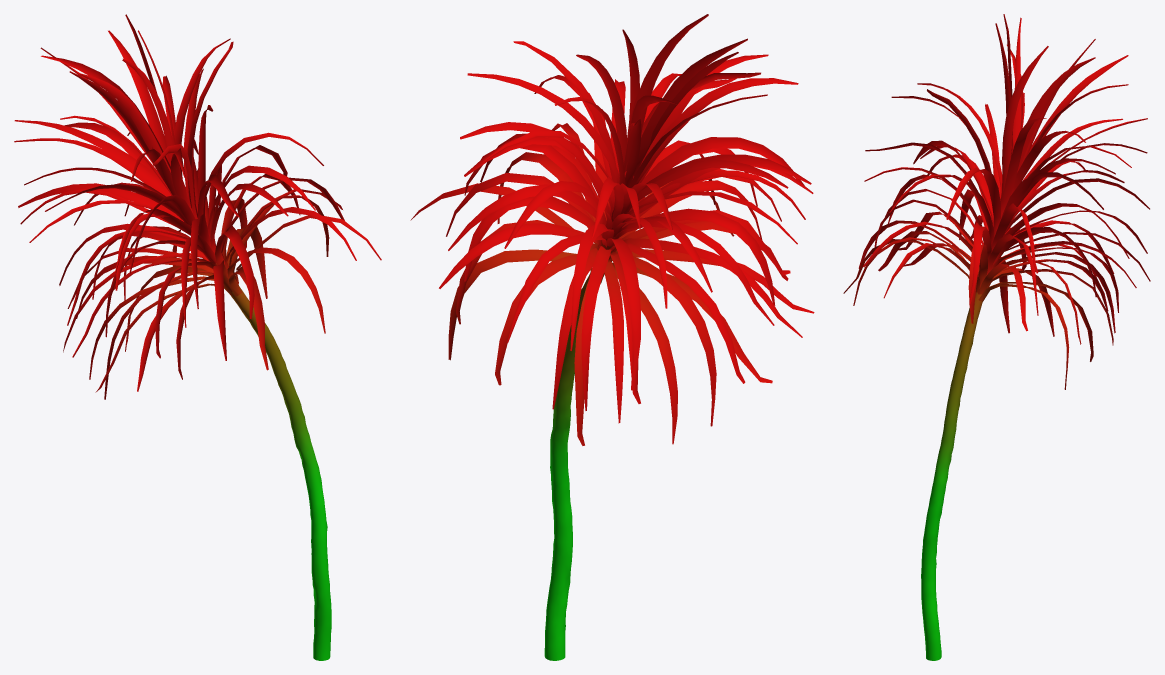
The model's file is Dragon Tree_LOD1_Var3_wfypejzha.fbx.
3 views of the same model, side by side, from view 1: azimuth 30°, elevation 25°; view 2: azimuth 150°, elevation 25°; view 3: azimuth 270°, elevation 25° (orthographic). The views are drawn at different scales.
Parts seen in each view (by area): view 1: _0hvo_Var3_LOD1; view 2: _0hvo_Var3_LOD1; view 3: _0hvo_Var3_LOD1.
Boxes of the visible parts, bbox=[...] form: _0hvo_Var3_LOD1: bbox=[14, 14, 381, 660]; _0hvo_Var3_LOD1: bbox=[410, 14, 814, 660]; _0hvo_Var3_LOD1: bbox=[843, 14, 1150, 660].
Size of the model in its own units: 53.54 by 97.56 by 48.47.
